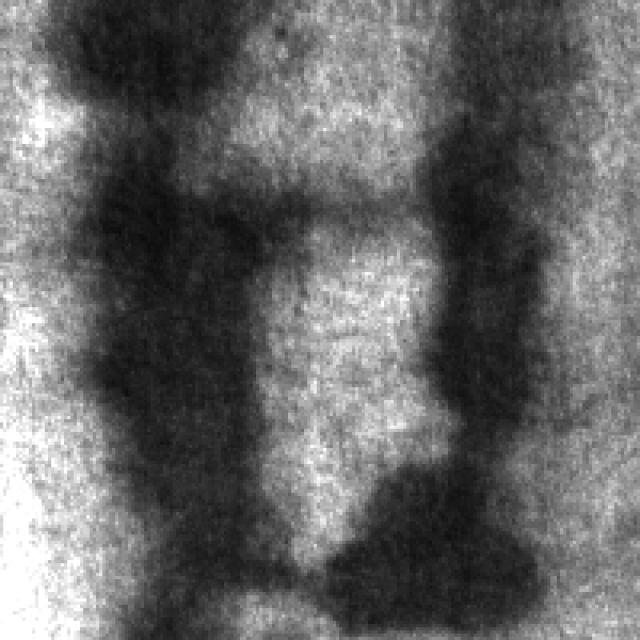patches: (332, 2, 600, 640), (48, 0, 296, 640)
